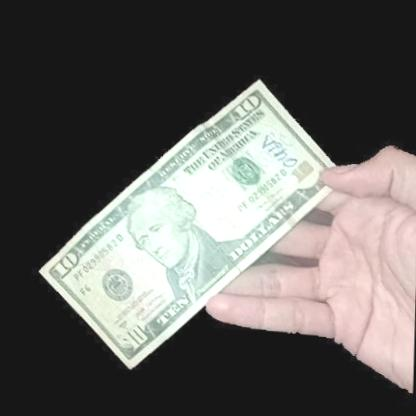ten-front: (31, 58, 415, 388)
